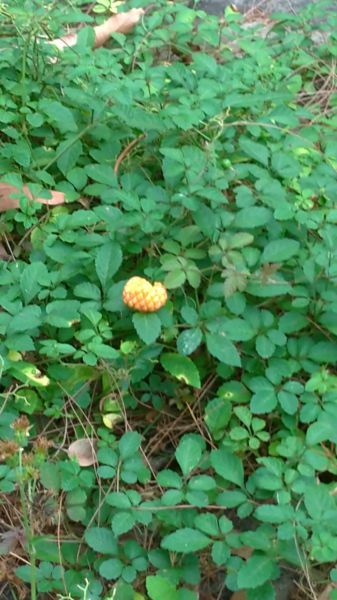eggs: (116, 274, 170, 316)
